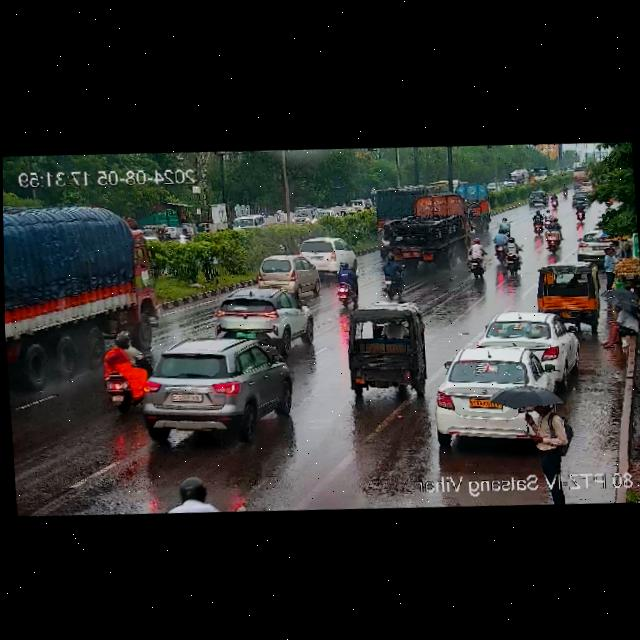car: (134, 333, 303, 442), (431, 345, 566, 435), (334, 296, 426, 400), (204, 284, 309, 352), (478, 311, 574, 377), (531, 259, 604, 323), (254, 252, 326, 298), (294, 236, 353, 275), (576, 227, 618, 259), (232, 213, 265, 233), (341, 197, 372, 216), (143, 222, 172, 242), (291, 207, 315, 225), (141, 224, 169, 238), (314, 207, 338, 223), (570, 190, 591, 205), (527, 193, 547, 208), (611, 240, 623, 256)
motorcycle: (99, 330, 147, 422), (163, 474, 229, 515), (331, 261, 360, 303), (381, 253, 403, 299), (466, 238, 488, 280), (491, 228, 511, 265), (503, 238, 522, 274), (546, 225, 563, 252), (530, 209, 545, 236), (577, 202, 587, 224), (499, 216, 510, 233), (550, 193, 560, 209), (562, 184, 568, 197)
person: (526, 399, 581, 494), (606, 304, 639, 350), (602, 246, 620, 290), (177, 226, 192, 245)
truck: (3, 194, 151, 343), (379, 194, 475, 262), (448, 180, 492, 230), (511, 169, 530, 187), (531, 167, 550, 182)
